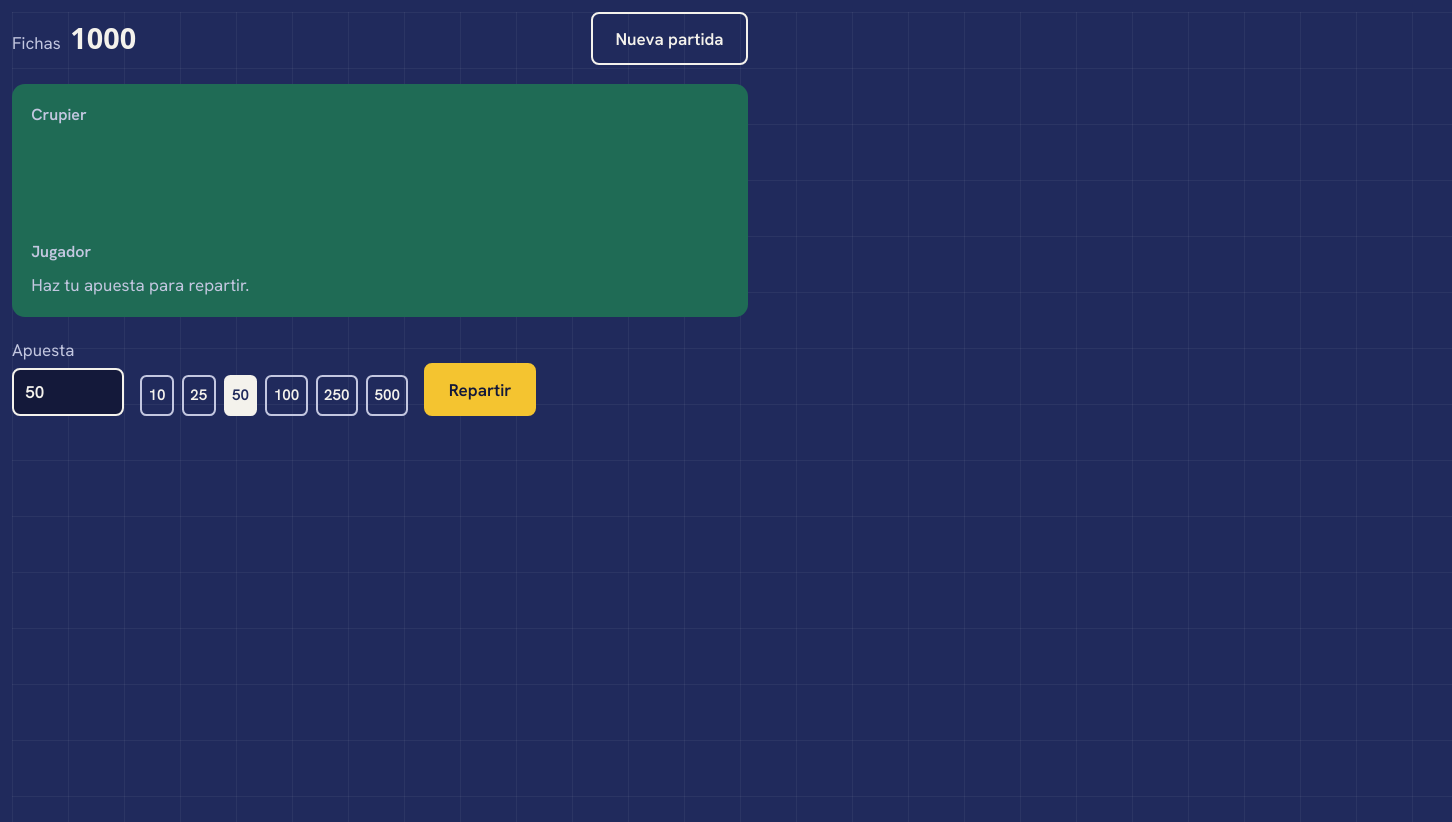
Test: dibuja las cartas del jugador y del crupier, con su carta boca abajo
The image size is (1452, 822).
Click the button "Repartir".
click(480, 390)  # box left=424, top=363, right=536, bottom=416
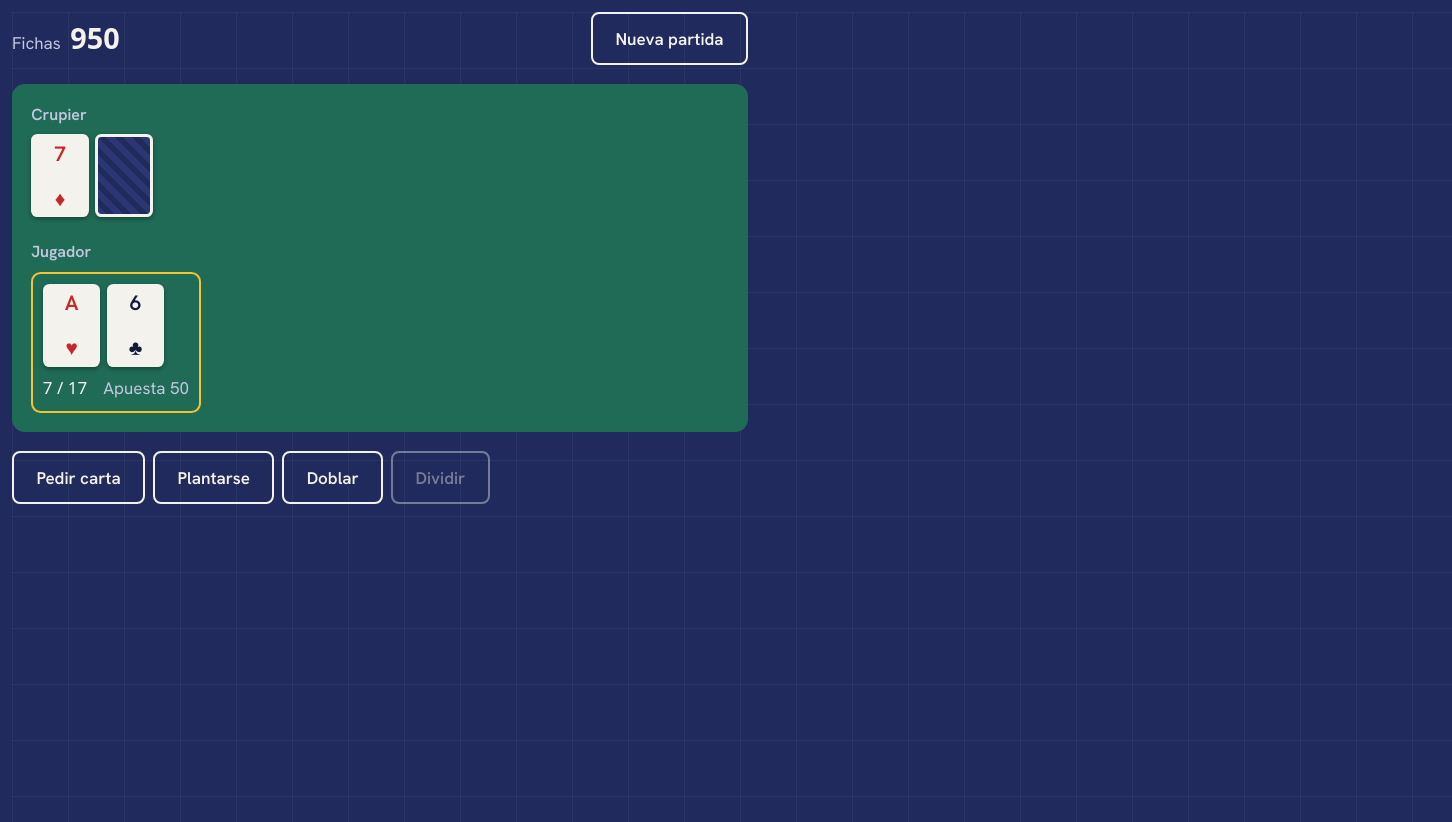
Expected: the picture named "7 de diamantes" is shown, left=31, top=134, right=89, bottom=217
Expected: the picture named "Carta boca abajo" is shown, left=95, top=134, right=153, bottom=217
Expected: the picture named "A de corazones" is shown, left=43, top=284, right=100, bottom=367
